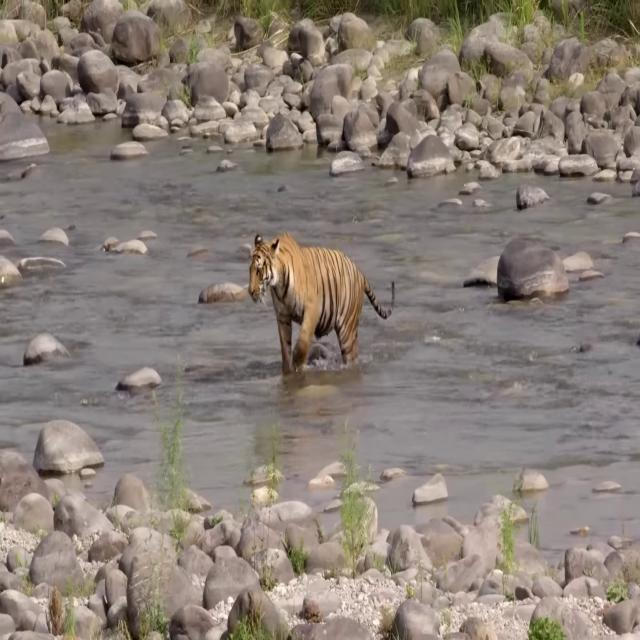tiger: (248, 227, 396, 371)
